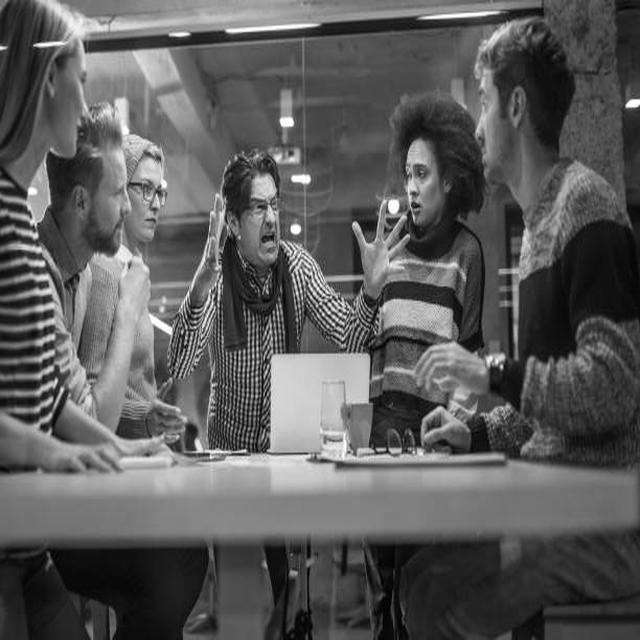Angry: (242, 175, 281, 267)
